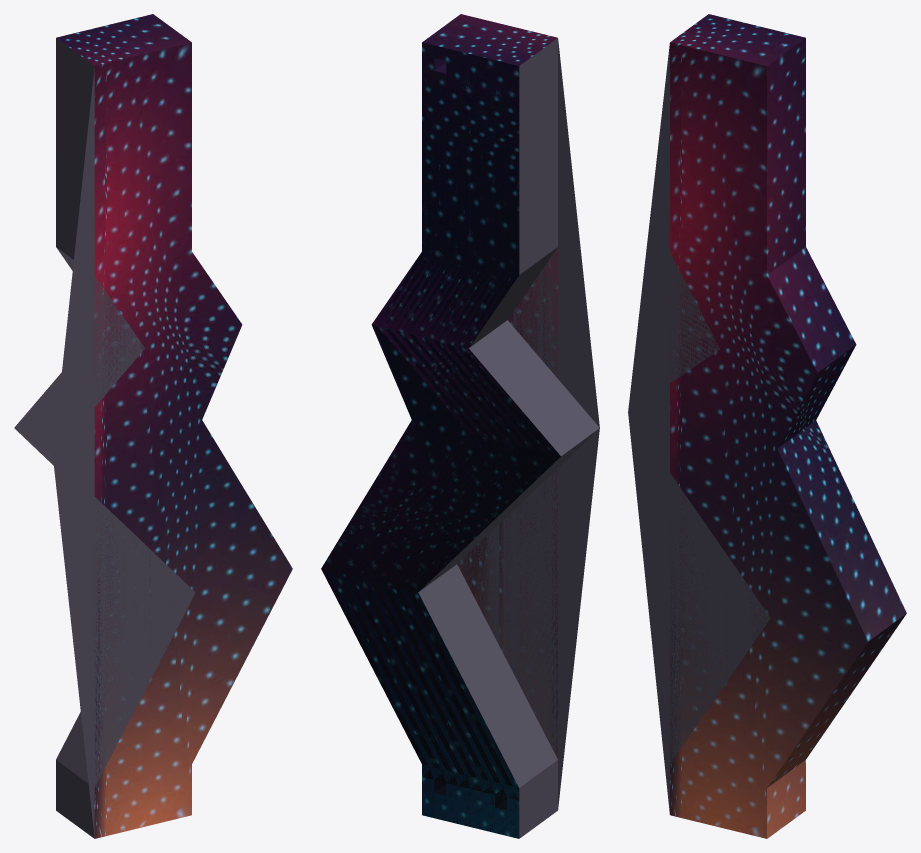
Rendered from terrain3.obj.
3 views of the same model, side by side, from view 1: azimuth 30°, elevation 25°; view 2: azimuth 150°, elevation 25°; view 3: azimuth 330°, elevation 25° (orthographic).
Visible parts, largest first — view 1: Plane; view 2: Plane; view 3: Plane.
Part boxes in pixels (x1=…): Plane: x1=14, y1=14, x2=292, y2=838; Plane: x1=321, y1=14, x2=599, y2=838; Plane: x1=628, y1=14, x2=906, y2=838.
Size of the model in its own units: 1034 by 3181 by 290.
1 material, 1 textured.
